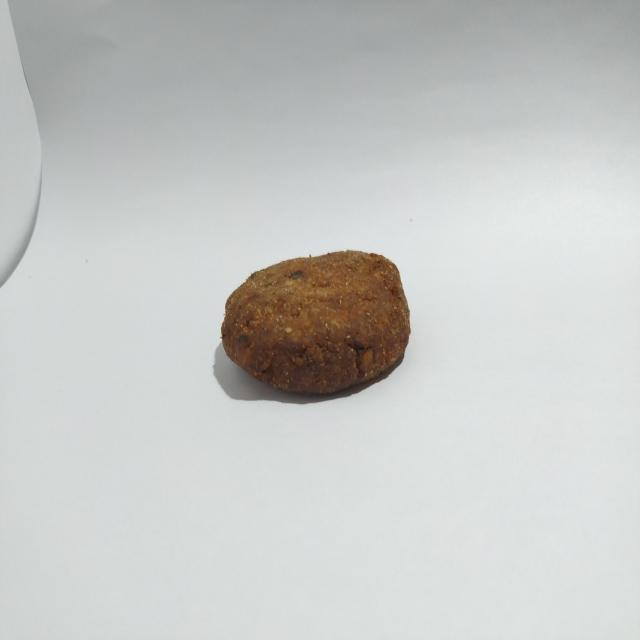Pajagua: (214, 228, 420, 408)
